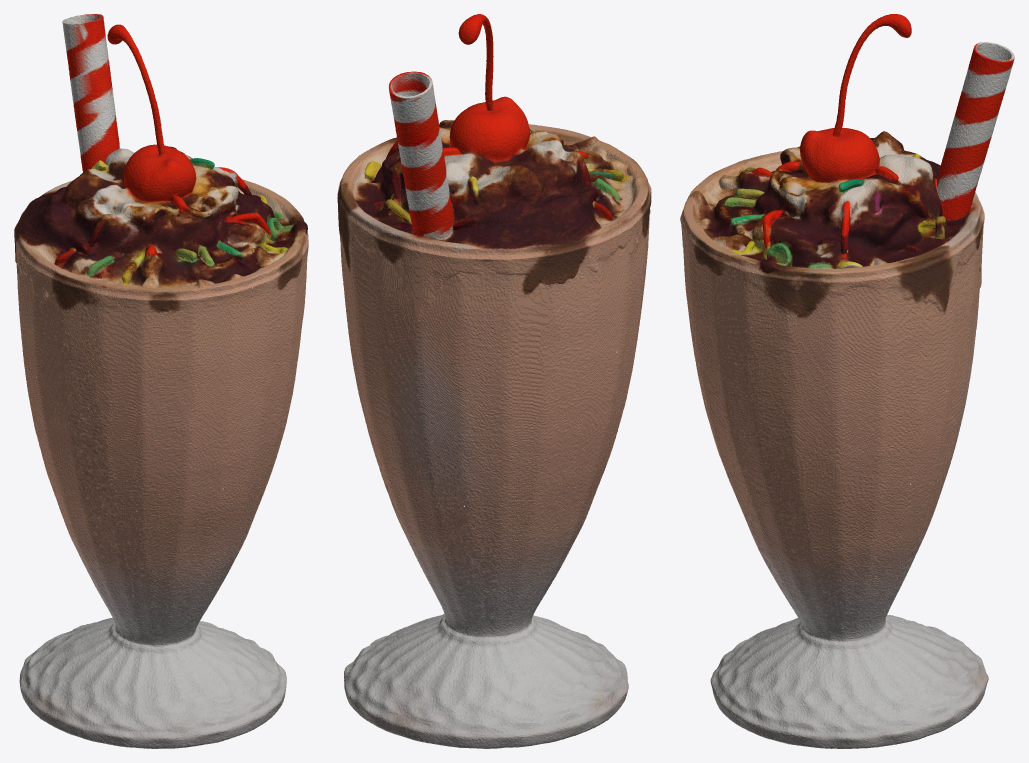
Rendered from choco_milkshake.glb.
The picture shows the model from 3 angles, left to right: view 1: azimuth 30°, elevation 25°; view 2: azimuth 150°, elevation 25°; view 3: azimuth 270°, elevation 25°; orthographic projection. The views are drawn at different scales.
Parts seen in each view (by area): view 1: tripo_node_ac205be1-7004-4c4a-94b4-128ccf20fffa; view 2: tripo_node_ac205be1-7004-4c4a-94b4-128ccf20fffa; view 3: tripo_node_ac205be1-7004-4c4a-94b4-128ccf20fffa.
Part boxes in pixels (x1,y1,x2,y2): tripo_node_ac205be1-7004-4c4a-94b4-128ccf20fffa: [14, 14, 308, 748]; tripo_node_ac205be1-7004-4c4a-94b4-128ccf20fffa: [337, 14, 651, 748]; tripo_node_ac205be1-7004-4c4a-94b4-128ccf20fffa: [680, 14, 1014, 748].
Size of the model in its own units: 0.4084 by 1 by 0.4489.
1 material, 1 textured.
